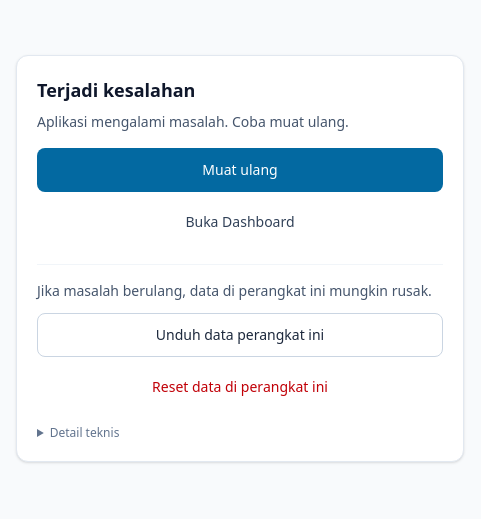
it: AppErrorBoundary › asks for confirmation before resetting the device data
The image size is (481, 519).
Later steps or results of the test are not shown.
Click the button "Reset data di perangkat ini". click: (240, 386)
box: [37, 364, 443, 408]
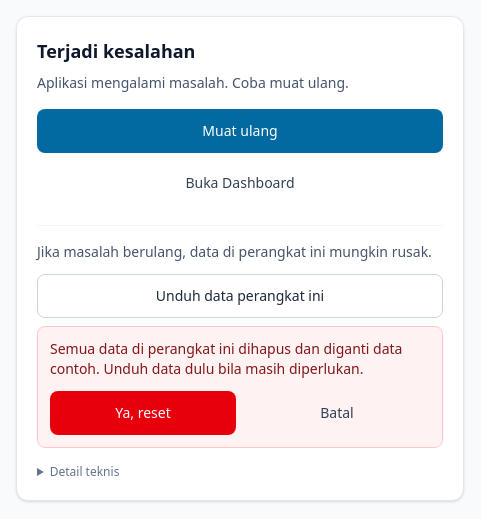
Click the button "Batal". click: (337, 412)
box: [244, 390, 430, 434]
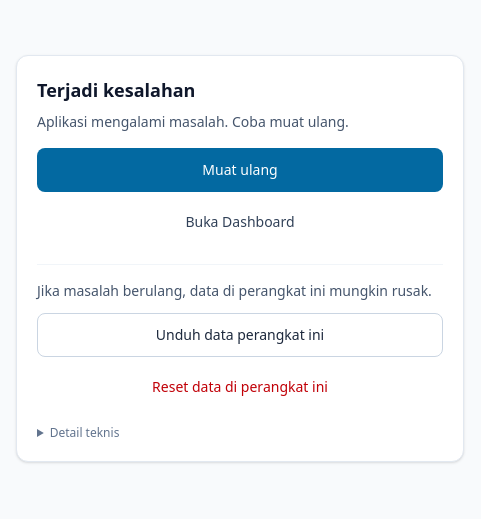
Click the button "Reset data di perangkat ini". click: (240, 386)
box: [37, 364, 443, 408]
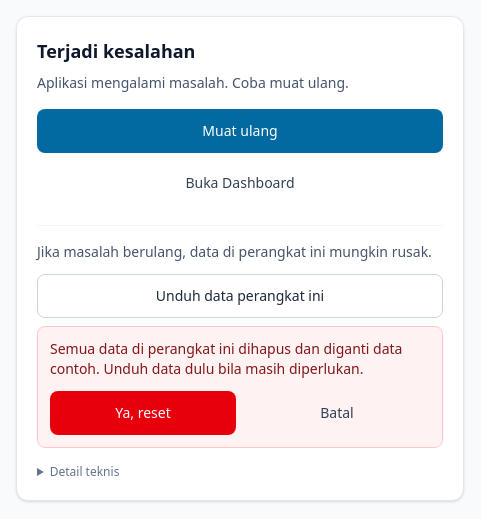
Expected: the text "Semua data di perangkat ini dihapus" is shown, [50, 338, 402, 378]
